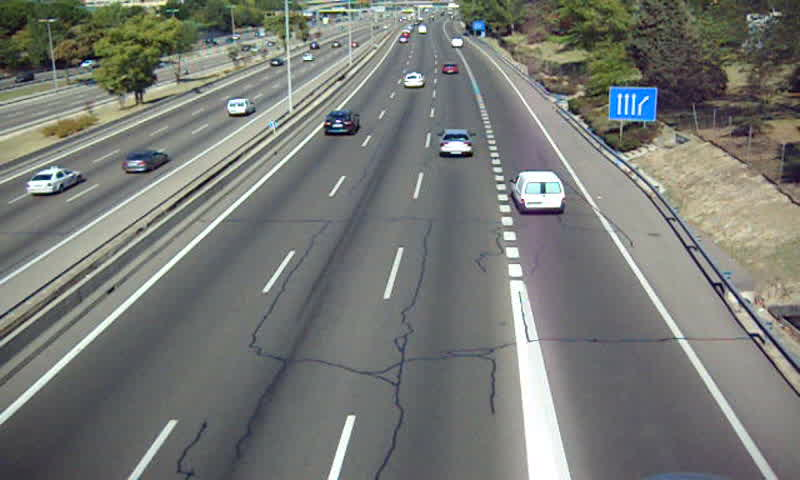car: (438, 129, 474, 157), (324, 110, 362, 135), (403, 71, 427, 88), (443, 62, 460, 75)
van: (510, 171, 567, 214)
